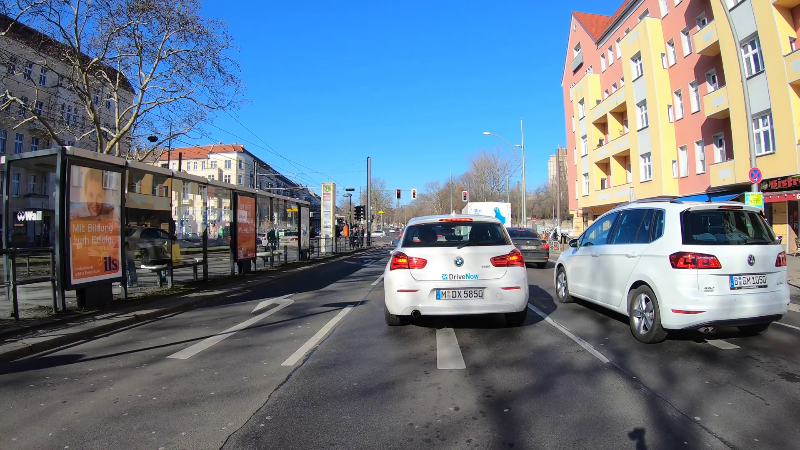Plate: (728, 273, 767, 289), (436, 287, 484, 299)
